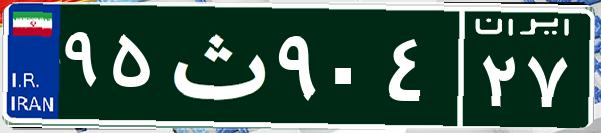0: (330, 28, 385, 110)
2: (475, 38, 525, 113)
4: (385, 28, 445, 110)
5: (110, 28, 158, 105)
7: (525, 38, 570, 115)
9: (273, 28, 330, 110), (57, 26, 110, 107)
ث: (158, 15, 273, 115)
